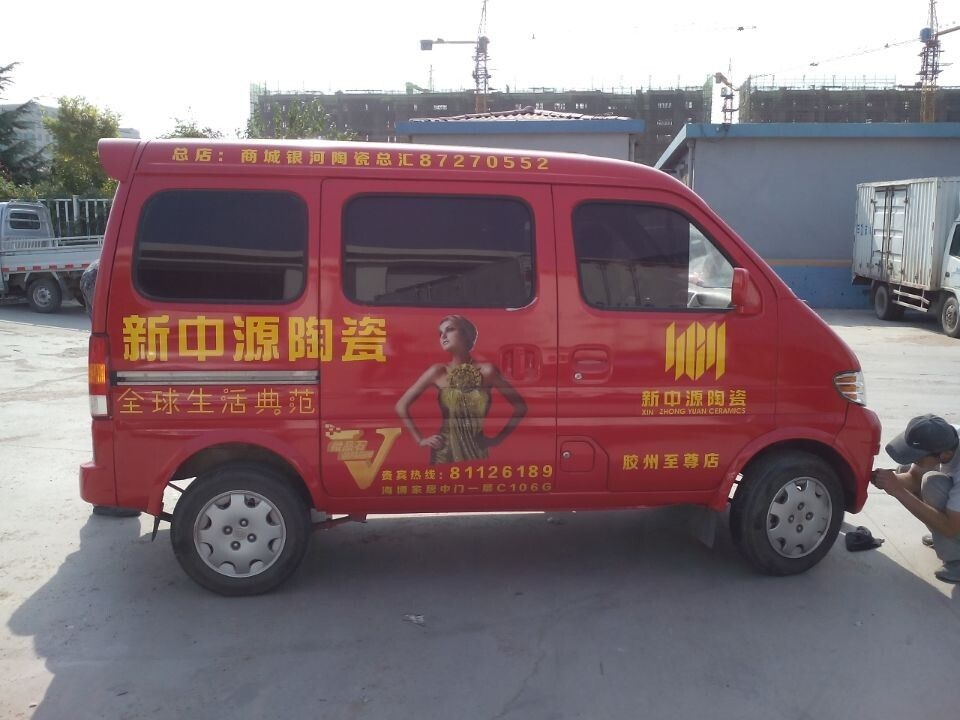minibus: (70, 118, 870, 592)
